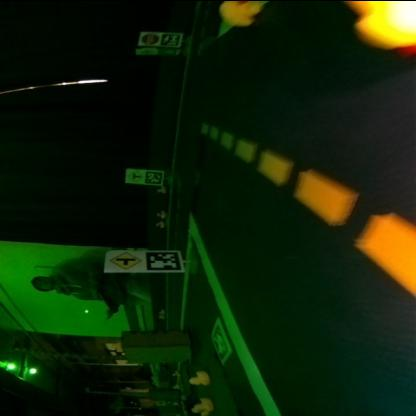Duckie: (218, 0, 260, 24), (188, 370, 208, 384), (196, 398, 214, 410), (156, 209, 165, 216), (156, 220, 164, 226), (158, 186, 166, 192)
Intersection sign: (108, 251, 140, 268), (127, 168, 143, 182)
QR code: (210, 318, 230, 362), (144, 249, 182, 271), (160, 32, 180, 44), (145, 169, 161, 183), (158, 47, 178, 53)
Stop sign: (138, 30, 158, 44)
